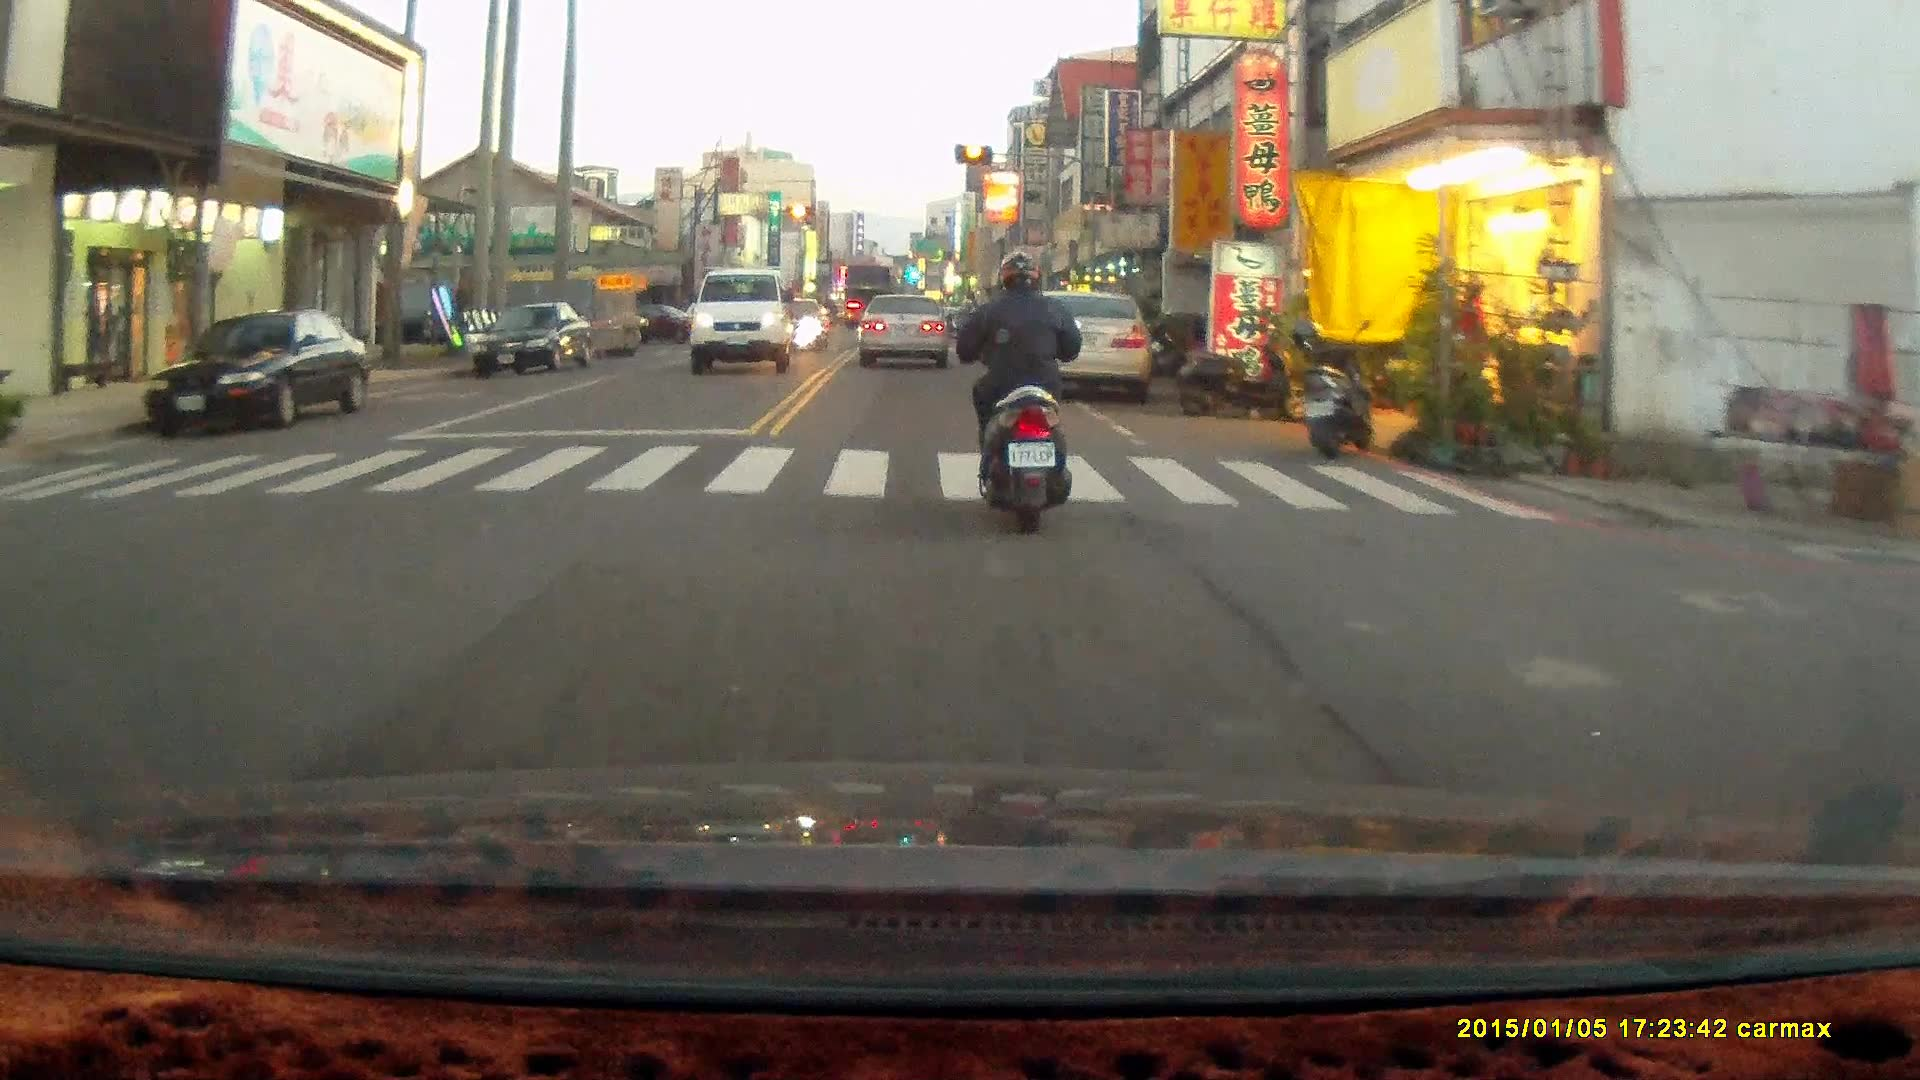pedestrian: (1452, 280, 1487, 397)
rider: (953, 250, 1084, 536)
vehicle: (134, 313, 369, 436), (1022, 291, 1158, 405), (688, 267, 796, 377), (473, 302, 593, 383), (860, 292, 957, 367)
